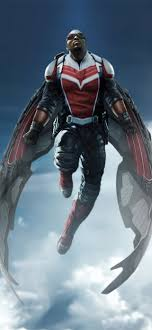Object-Detection: (1, 1, 152, 330)
